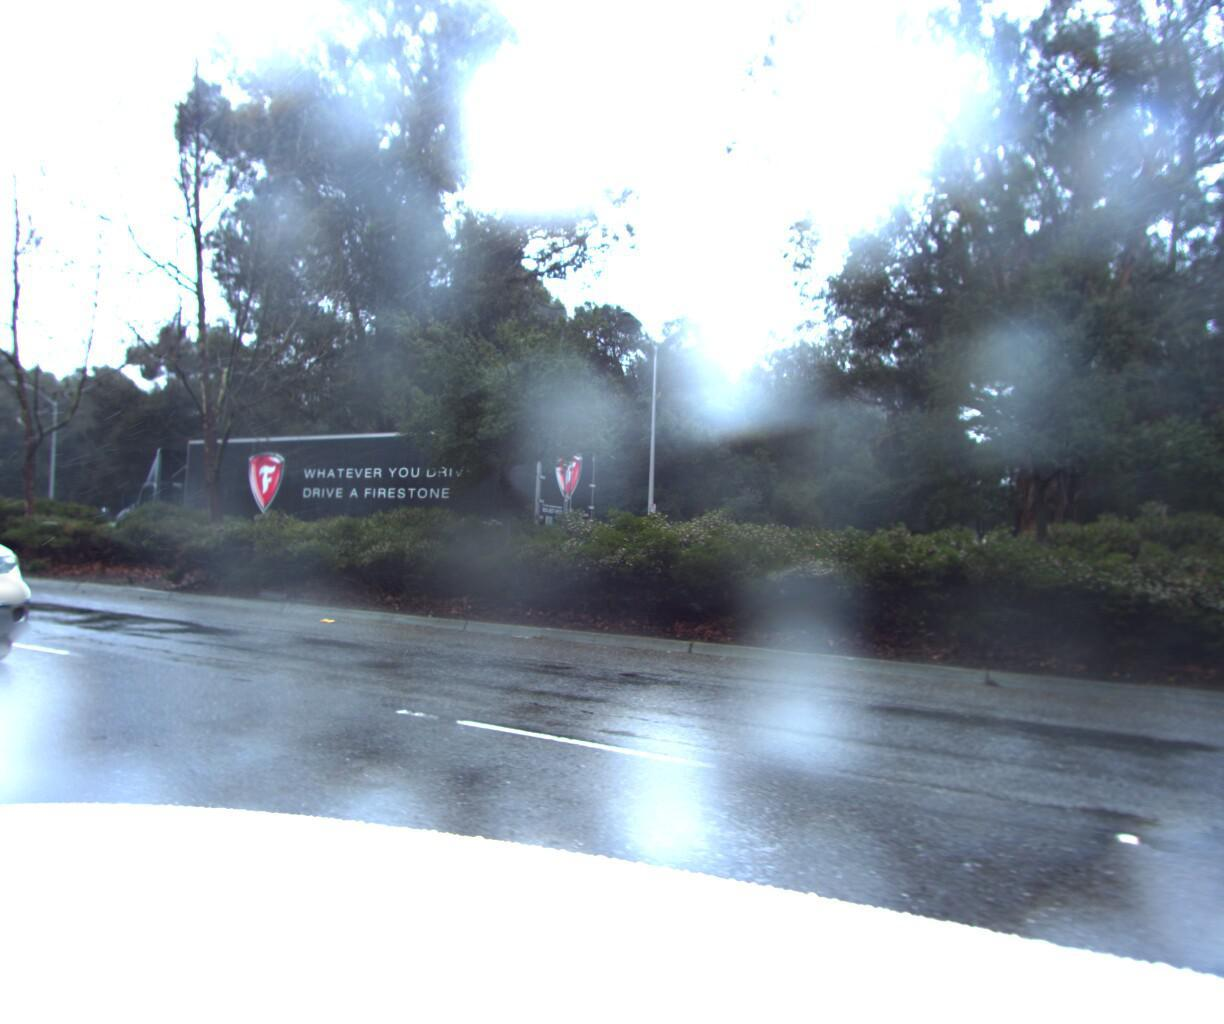car: (0, 451, 59, 724)
truck: (86, 412, 613, 592)
